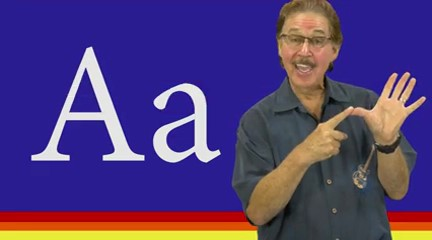A: (295, 67, 431, 163)
